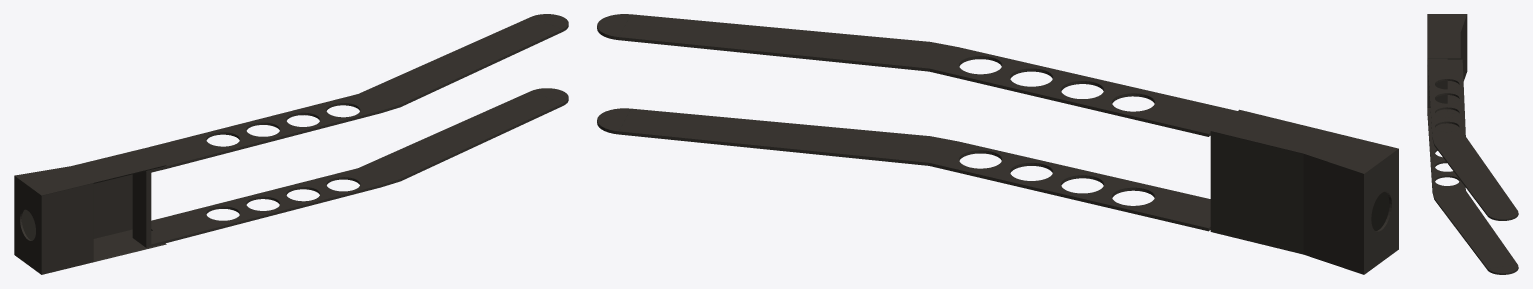
File: spas12stock.fbx
3 renders of one model, left to right at view 1: azimuth 30°, elevation 25°; view 2: azimuth 150°, elevation 25°; view 3: azimuth 270°, elevation 25°, orthographic. The views are drawn at different scales.
Visible parts, largest first — view 1: SPAS-12; view 2: SPAS-12; view 3: SPAS-12.
Boxes of the visible parts, bbox=[...] form: SPAS-12: bbox=[14, 14, 568, 274]; SPAS-12: bbox=[597, 14, 1398, 274]; SPAS-12: bbox=[1427, 14, 1518, 274].
Size of the model in its own units: 0.2156 by 0.0284 by 0.0406.
